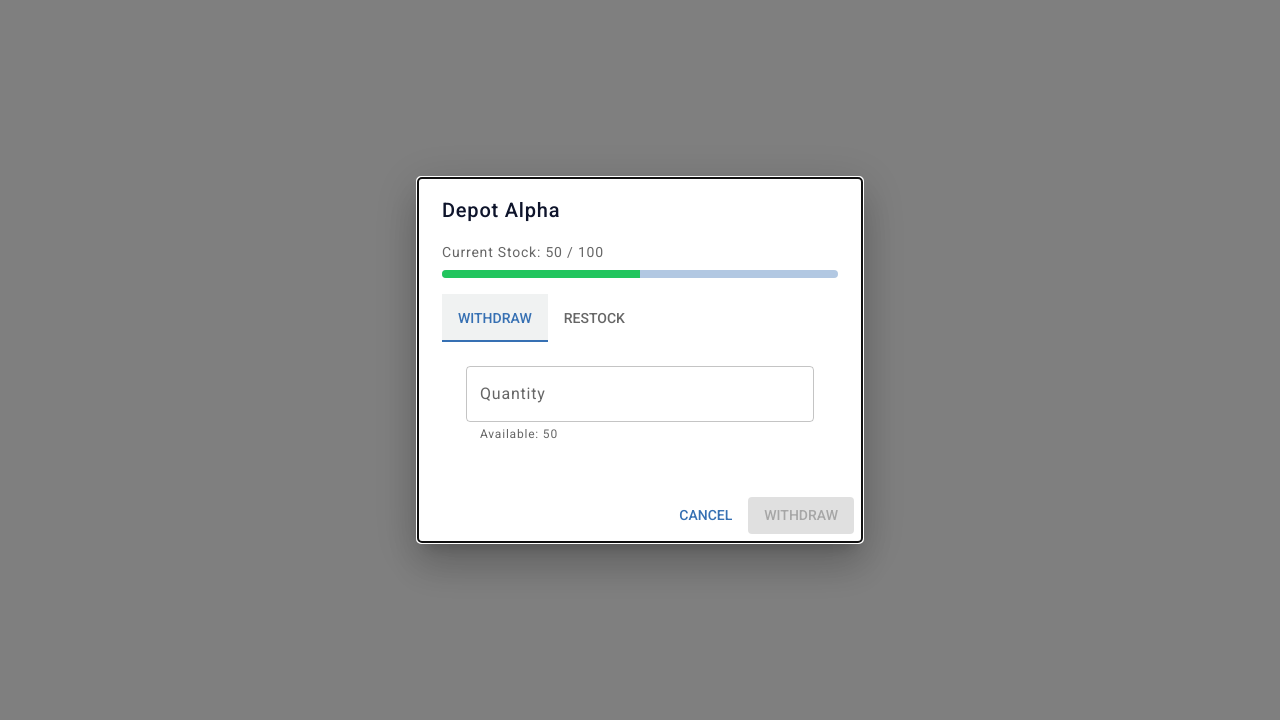
Test: StockActionDialog › shows restock validation error when exceeding capacity
Expected: the heading "Depot Alpha" is shown, [442,198,560,222]
Click the tab "Restock".
click(594, 318)  # box [548,294,641,342]
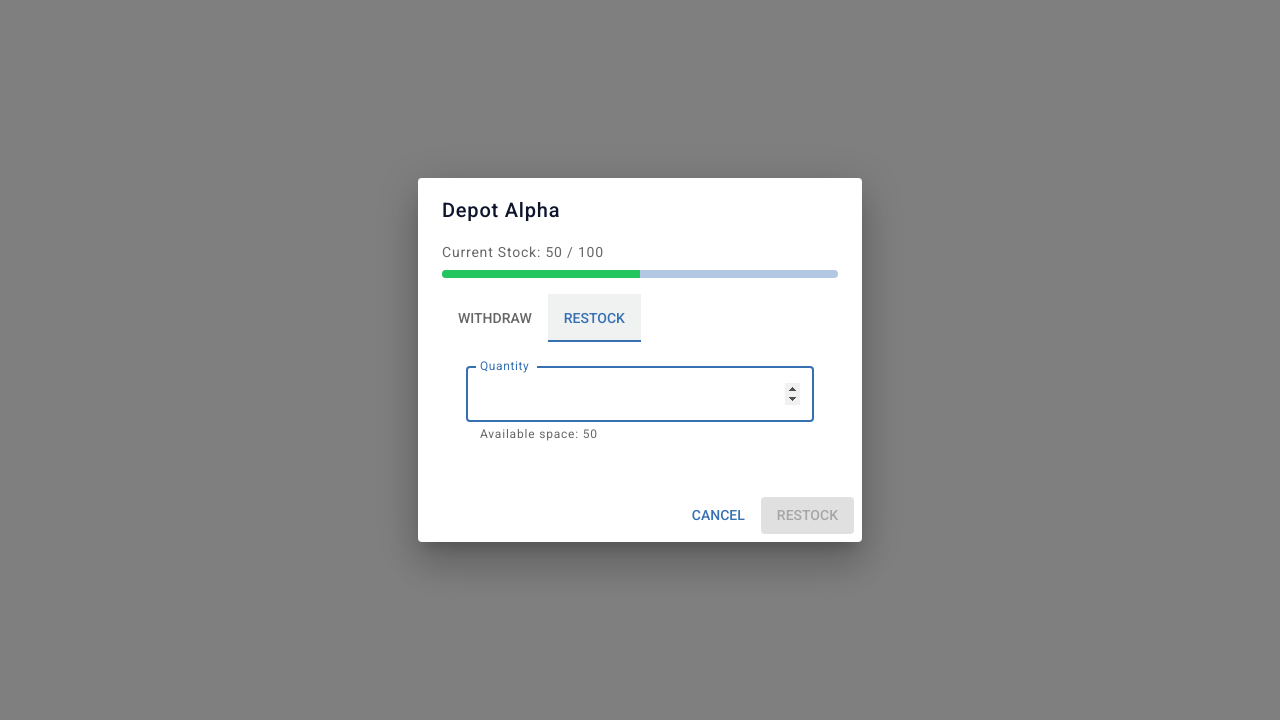
Type "999" into the number field.
click(640, 394); type("999")  # box [466,366,814,422]
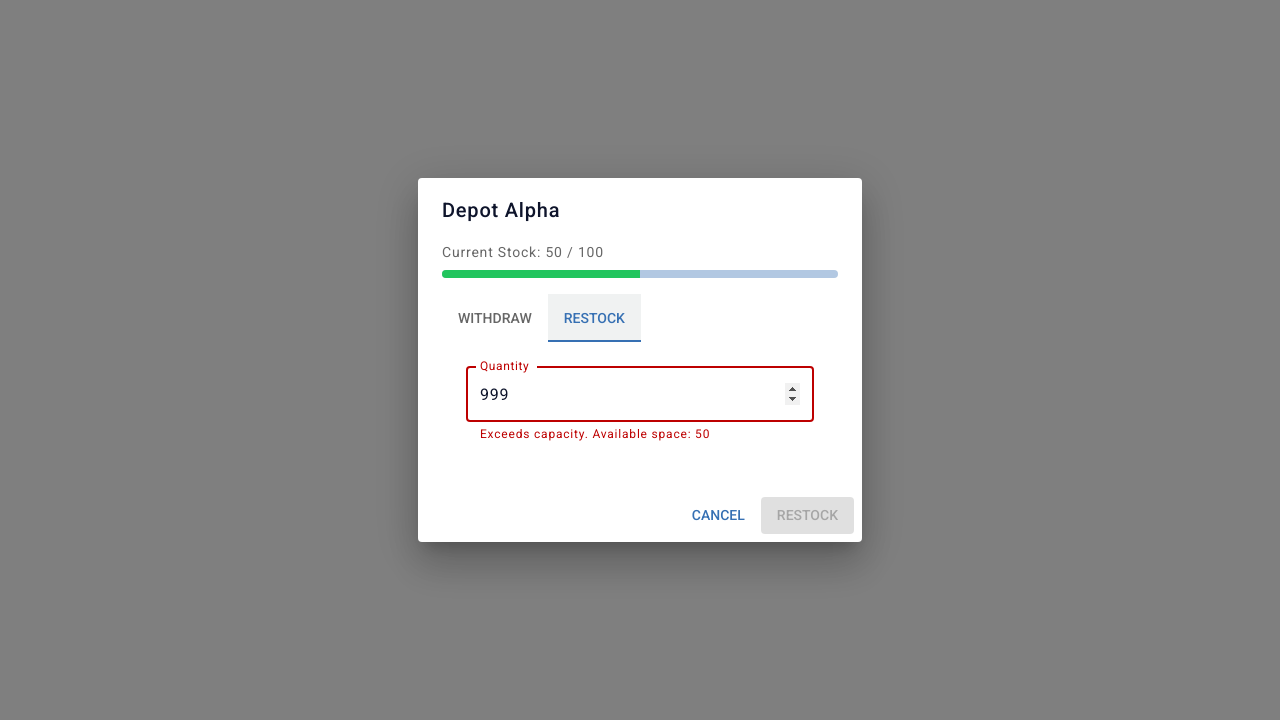
Expected: the text "Exceeds capacity. Available space: 50" is shown, [480,427,710,441]
